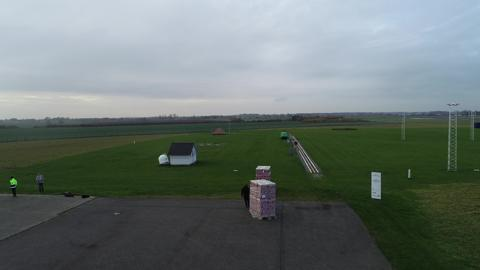RockwoolPallet: (256, 164, 273, 180)
